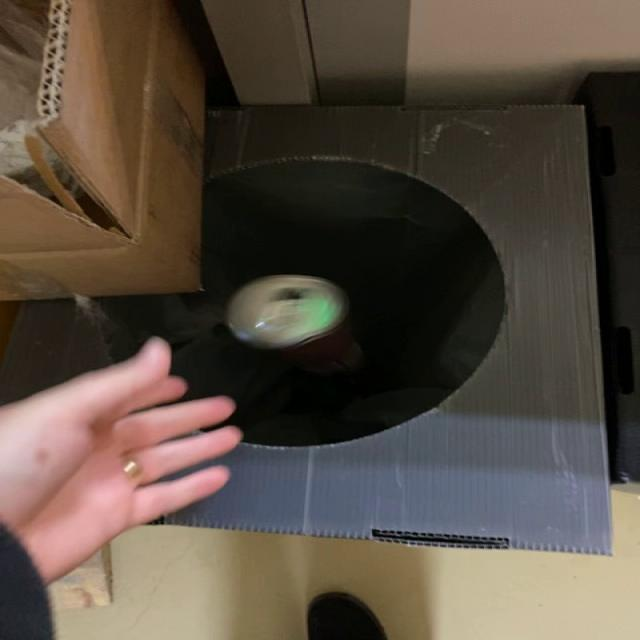Bin: (3, 105, 611, 554)
Metal: (225, 275, 364, 374)
